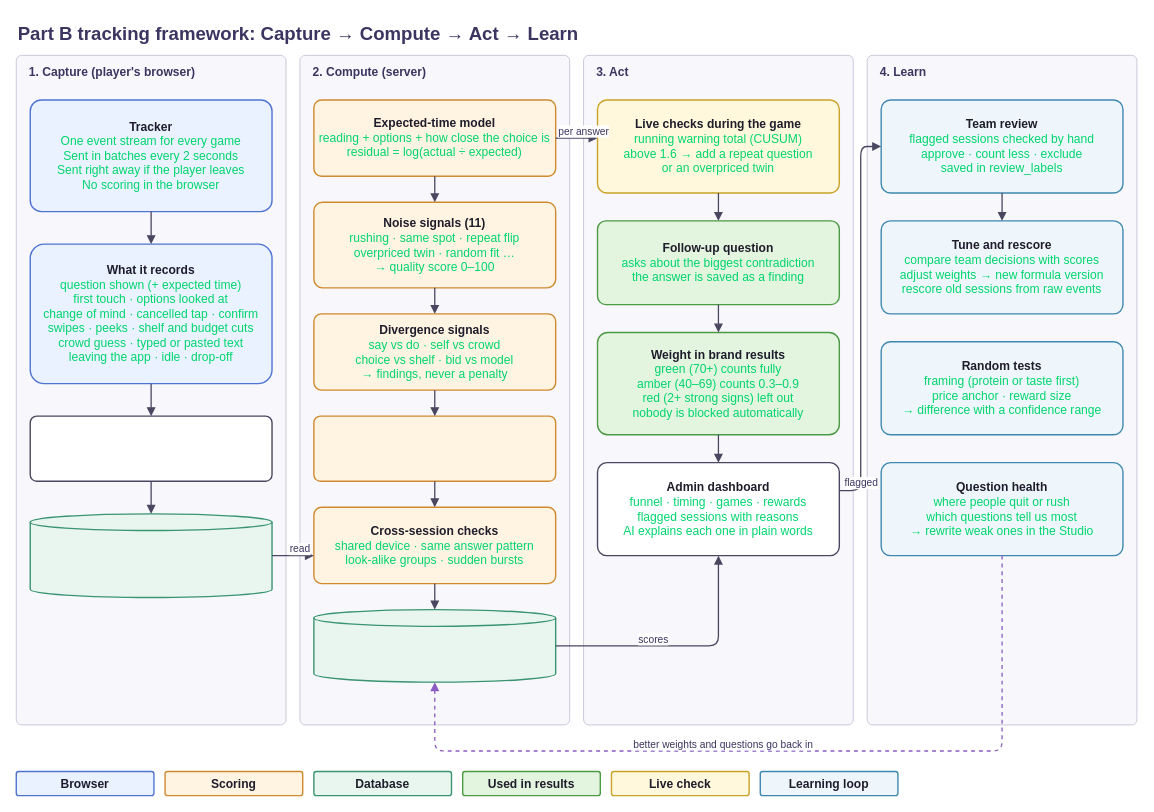
Some shapes in this 1154 by 812 pixel diagram are drawn without their labels. Here are the shapes that lost their labels. From the top down, the centre of each, then its label:
At (x=150, y=448): "POST /api/events checked with Zod, then saved".
At (x=434, y=448): "Engagement score 0–100 finish · healthy time · depth focus · tiredness".
At (x=150, y=555): "event_log raw events, never edited hashed device and IP no personal details".
At (x=434, y=645): "session_scores scores + reasons per session formula version (quality-v1.3)".
